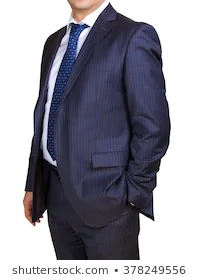F_tie: (42, 17, 97, 165)
